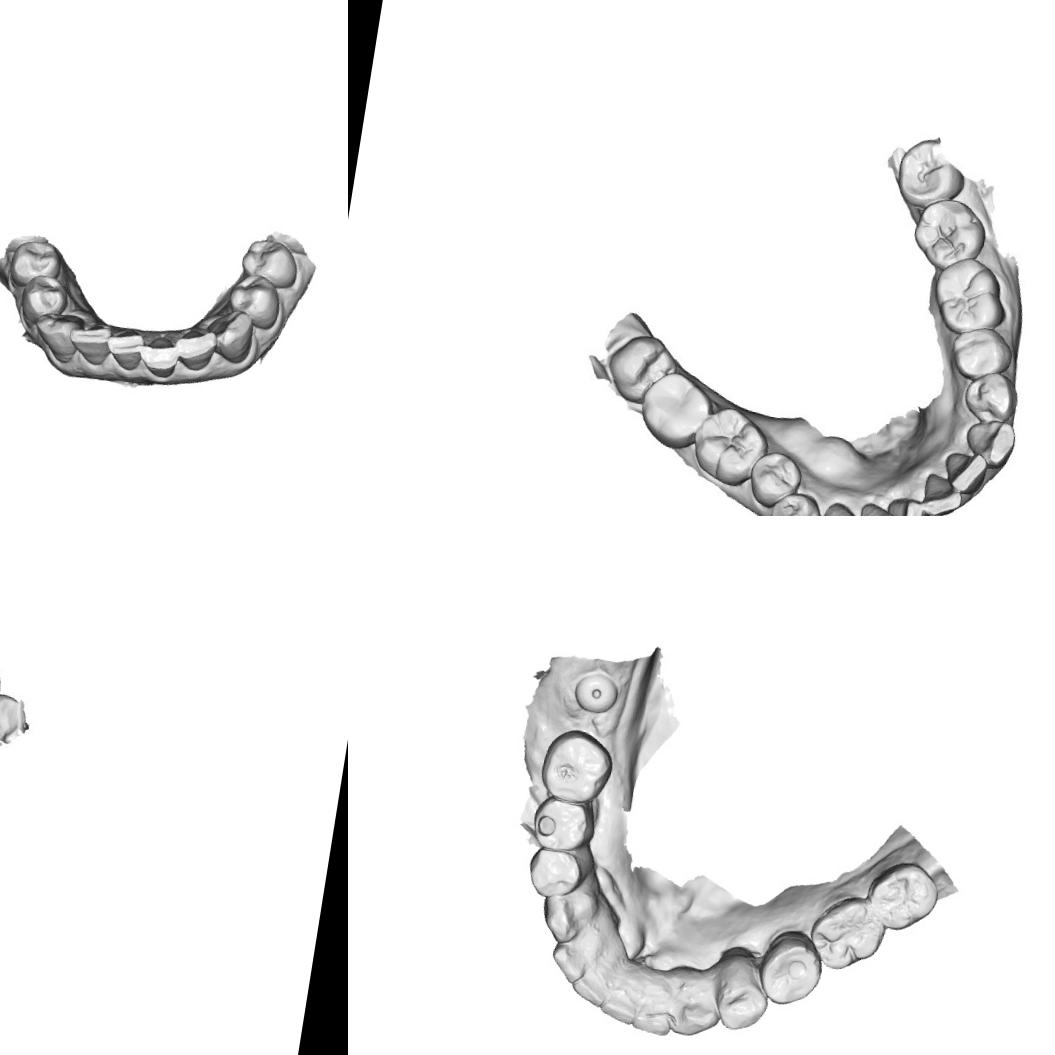canine: (192, 303, 258, 366), (670, 978, 727, 1042), (538, 884, 596, 946), (29, 308, 88, 366), (962, 416, 1019, 472), (812, 503, 865, 516)
implant: (574, 670, 621, 714)
incisor: (632, 966, 684, 1040), (599, 960, 654, 1028), (570, 952, 622, 1012), (548, 932, 594, 988), (65, 318, 114, 368), (134, 333, 182, 380), (174, 326, 220, 374), (102, 325, 147, 373), (942, 451, 992, 491), (922, 476, 964, 516), (889, 495, 934, 516), (857, 500, 901, 516)
molar: (802, 890, 894, 978), (688, 403, 768, 488), (638, 368, 711, 453), (863, 858, 944, 934), (933, 258, 1009, 332), (602, 332, 674, 410), (540, 730, 616, 802), (895, 132, 965, 206), (914, 196, 986, 264)
premolar: (758, 930, 827, 1011), (716, 958, 775, 1034), (527, 795, 596, 852), (223, 270, 285, 332), (237, 234, 302, 292), (746, 450, 806, 510), (6, 236, 65, 295), (16, 270, 72, 330), (525, 847, 587, 900), (960, 370, 1018, 424), (953, 326, 1009, 375), (768, 487, 821, 516)
